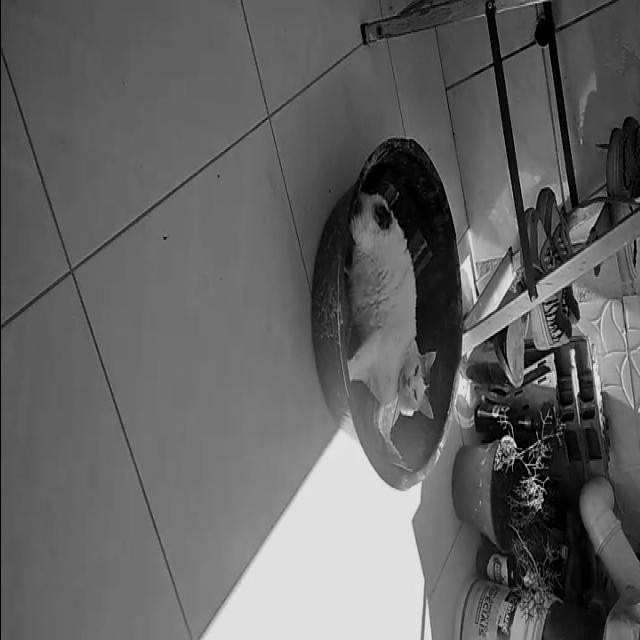Simba: (334, 211, 444, 439)
